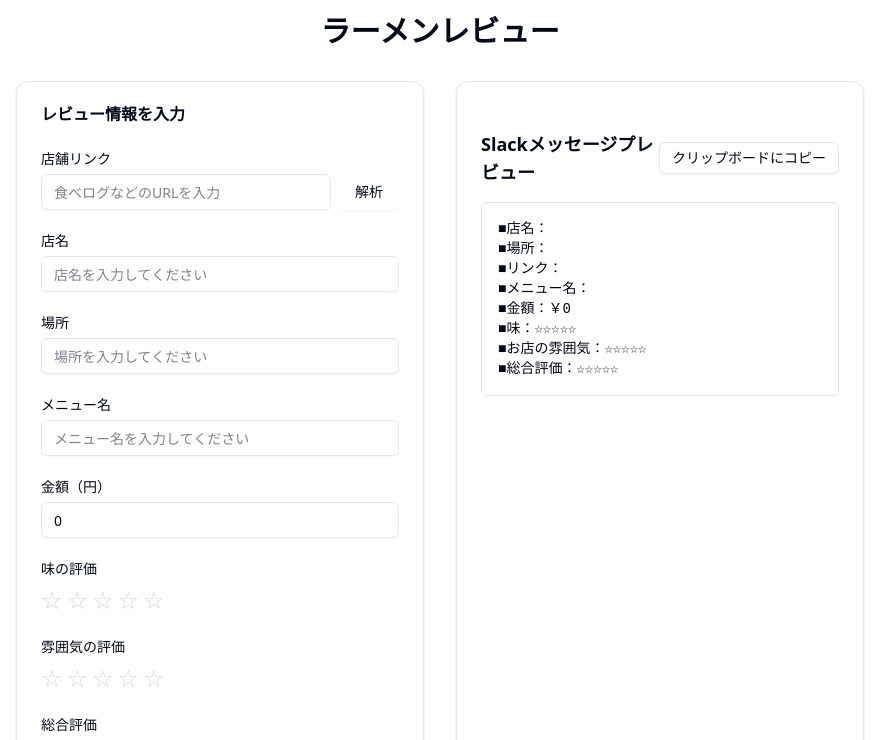
Test: Jina Reader APIエラーハンドリング › should display error message when Jina Reader API fails
 店舗リンク入力
Type "https://tabelog.com/example" into the field labelled "店舗リンク" at [186, 192], box [41, 174, 331, 210]
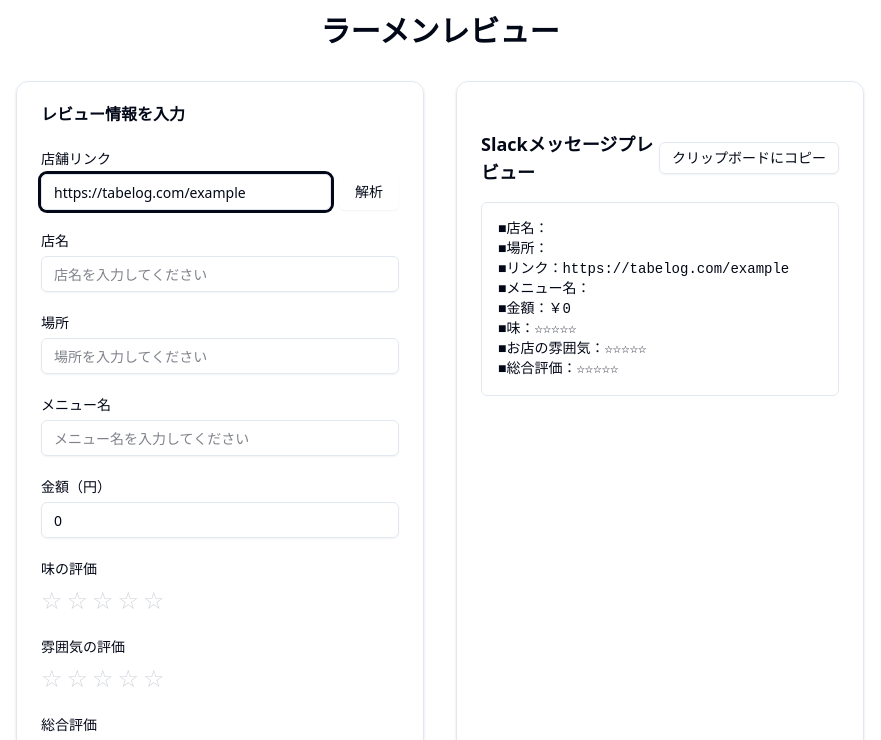
解析ボタンをクリック
Click the button "解析" at [369, 192], box [339, 174, 399, 210]
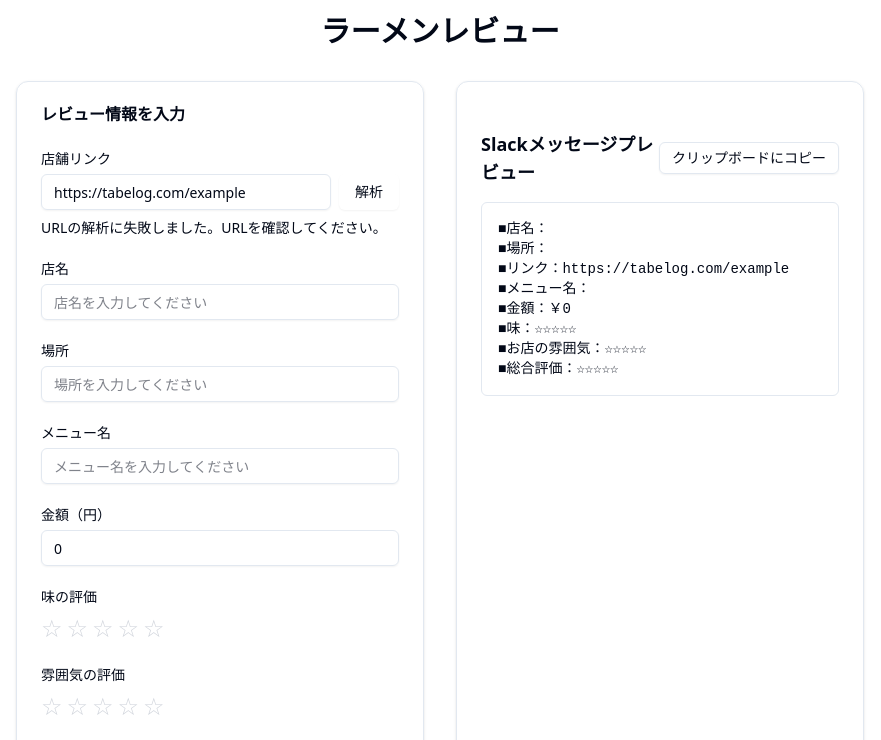
Expected: the text "URLの解析に失敗しました。URLを確認してください。" is shown, [41, 218, 399, 238]
